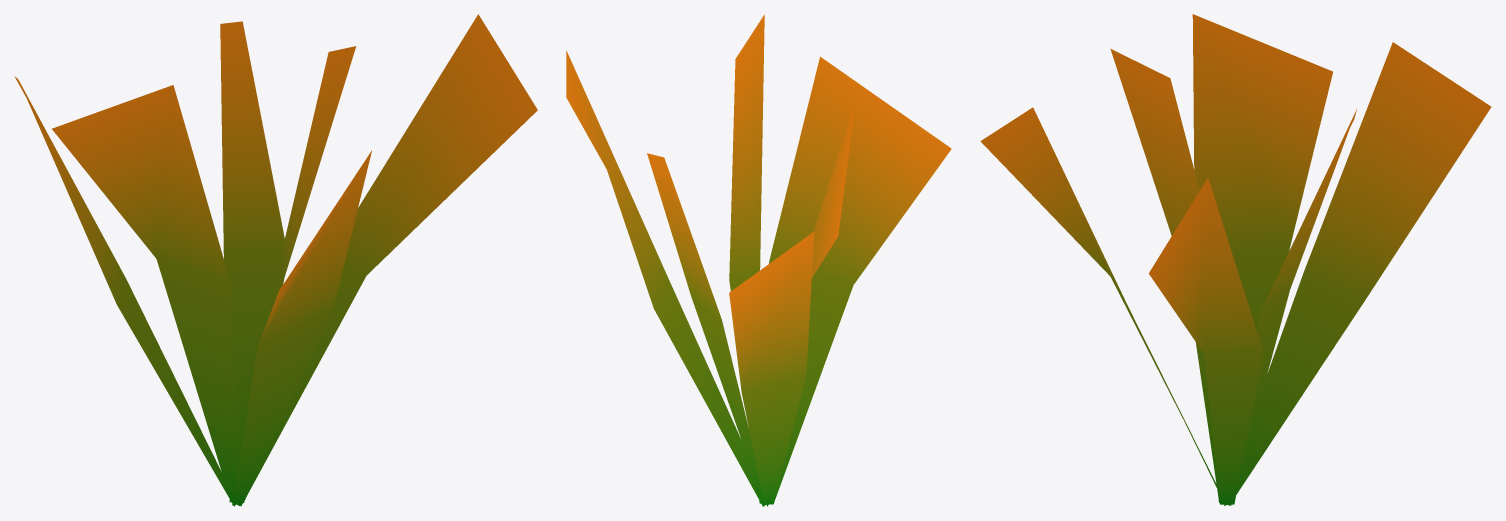
The model's file is Common Eelgrass_LOD3_Var1_sjglk.fbx.
The picture shows the model from 3 angles, left to right: view 1: azimuth 30°, elevation 25°; view 2: azimuth 150°, elevation 25°; view 3: azimuth 270°, elevation 25°; orthographic projection. The views are drawn at different scales.
Parts seen in each view (by area): view 1: _f17c_Var1_LOD3; view 2: _f17c_Var1_LOD3; view 3: _f17c_Var1_LOD3.
Boxes of the visible parts, bbox=[...] form: _f17c_Var1_LOD3: bbox=[14, 14, 537, 506]; _f17c_Var1_LOD3: bbox=[566, 14, 951, 506]; _f17c_Var1_LOD3: bbox=[980, 14, 1491, 505].
Bounding box in the file's own units: 86.43 × 101 × 96.47.
